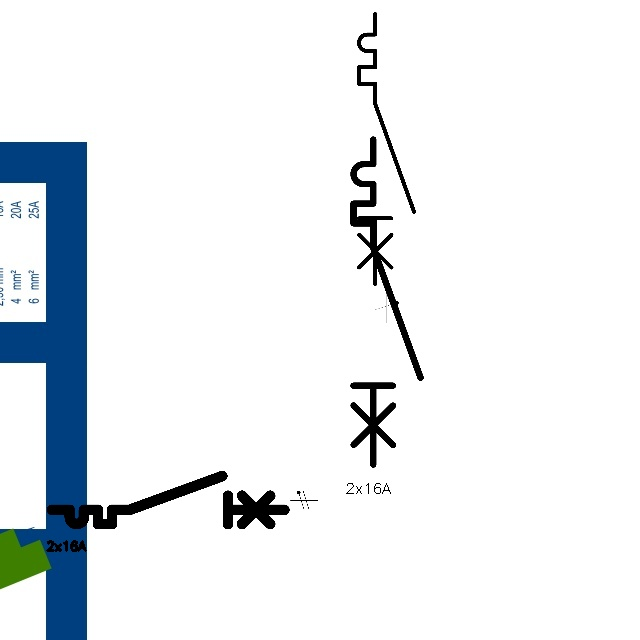interruptor_termomagnetico: (345, 131, 429, 473), (352, 7, 421, 290), (46, 470, 290, 530)
